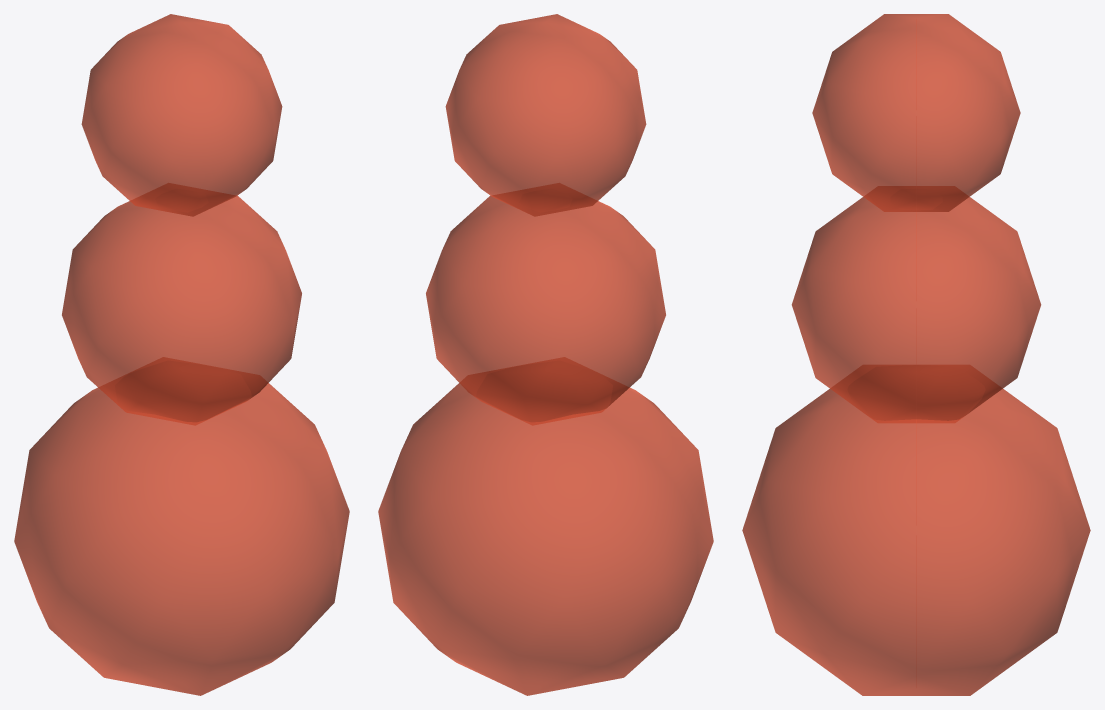
Rendered from enemy_red_avatar.glb.
3 renders of one model, left to right at view 1: azimuth 30°, elevation 25°; view 2: azimuth 150°, elevation 25°; view 3: azimuth 270°, elevation 25°, orthographic.
Parts seen in each view (by area): view 1: red_snowman; view 2: red_snowman; view 3: red_snowman.
Boxes of the visible parts, x1,y1,x2,y2 form: red_snowman: [14, 14, 349, 695]; red_snowman: [378, 14, 713, 695]; red_snowman: [742, 14, 1090, 695].
Bounding box in the file's own units: 0.7671 × 1.71 × 0.8066.
